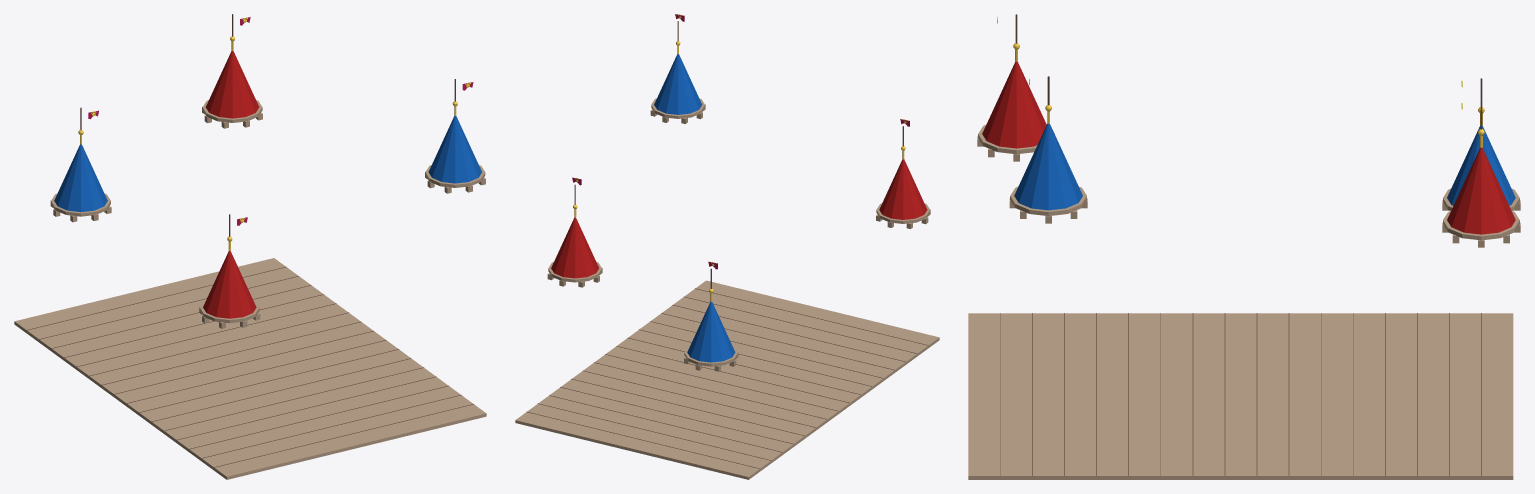
File: vaisgard_castillo_r5.glb
The picture shows the model from 3 angles, left to right: view 1: azimuth 30°, elevation 25°; view 2: azimuth 150°, elevation 25°; view 3: azimuth 270°, elevation 25°; orthographic projection. The views are drawn at different scales.
Visible parts, largest first — view 1: Cantera, Madera, Teja azul cobalto, Teja bermellón; view 2: Cantera, Madera, Teja bermellón, Teja azul cobalto; view 3: Cantera, Teja bermellón, Teja azul cobalto, Madera.
Part boxes in pixels (bbox=[...]): Cantera: bbox=[14, 100, 486, 479]; Madera: bbox=[27, 14, 473, 467]; Teja azul cobalto: bbox=[54, 116, 481, 211]; Teja bermellón: bbox=[203, 51, 259, 318]; Cantera: bbox=[515, 98, 939, 479]; Madera: bbox=[526, 21, 928, 468]; Teja bermellón: bbox=[551, 159, 927, 278]; Teja azul cobalto: bbox=[654, 54, 735, 362]; Cantera: bbox=[968, 125, 1520, 479]; Teja bermellón: bbox=[982, 61, 1515, 234]; Teja azul cobalto: bbox=[1014, 123, 1515, 210]; Madera: bbox=[1000, 14, 1482, 475].
Bounding box in the file's own units: 26.88 × 27.84 × 34.44.
